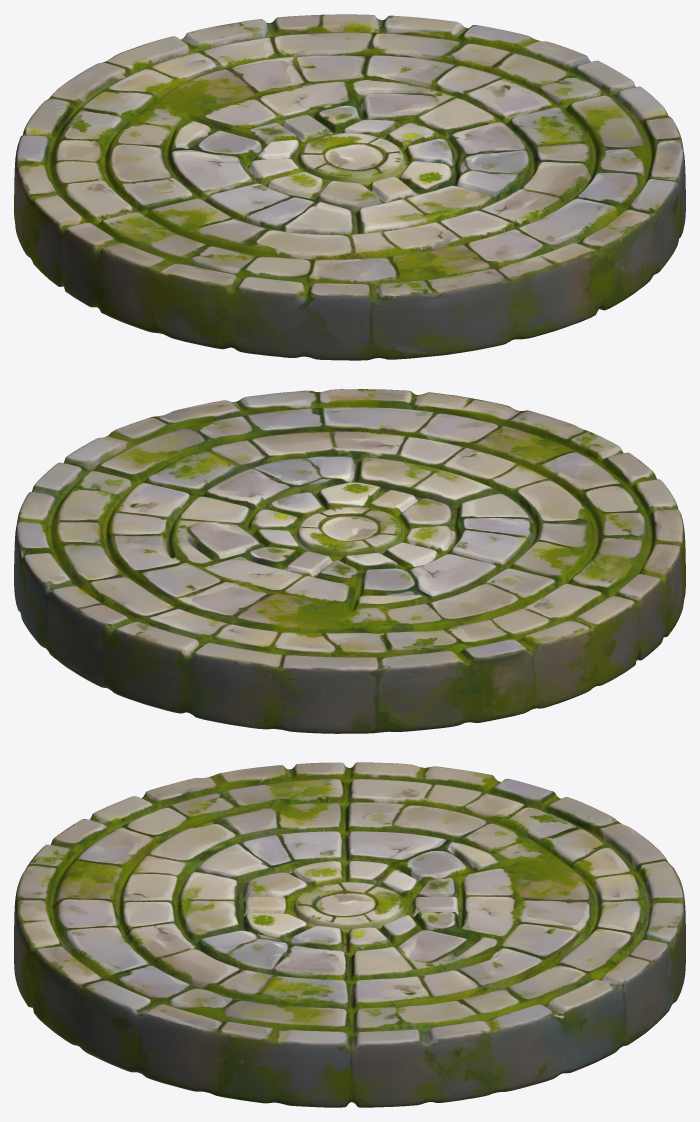
File: plaza_hy.glb
3 views of the same model, one above another, from view 1: azimuth 30°, elevation 25°; view 2: azimuth 150°, elevation 25°; view 3: azimuth 270°, elevation 25° (orthographic).
Visible parts, largest first — view 1: plaza_hy; view 2: plaza_hy; view 3: plaza_hy.
Part boxes in pixels (<box>): plaza_hy: <box>14,14,685,360</box>; plaza_hy: <box>14,389,685,733</box>; plaza_hy: <box>14,762,685,1107</box>.
Size of the model in its own units: 18.85 by 2.04 by 18.88.
1 material, 1 textured.
